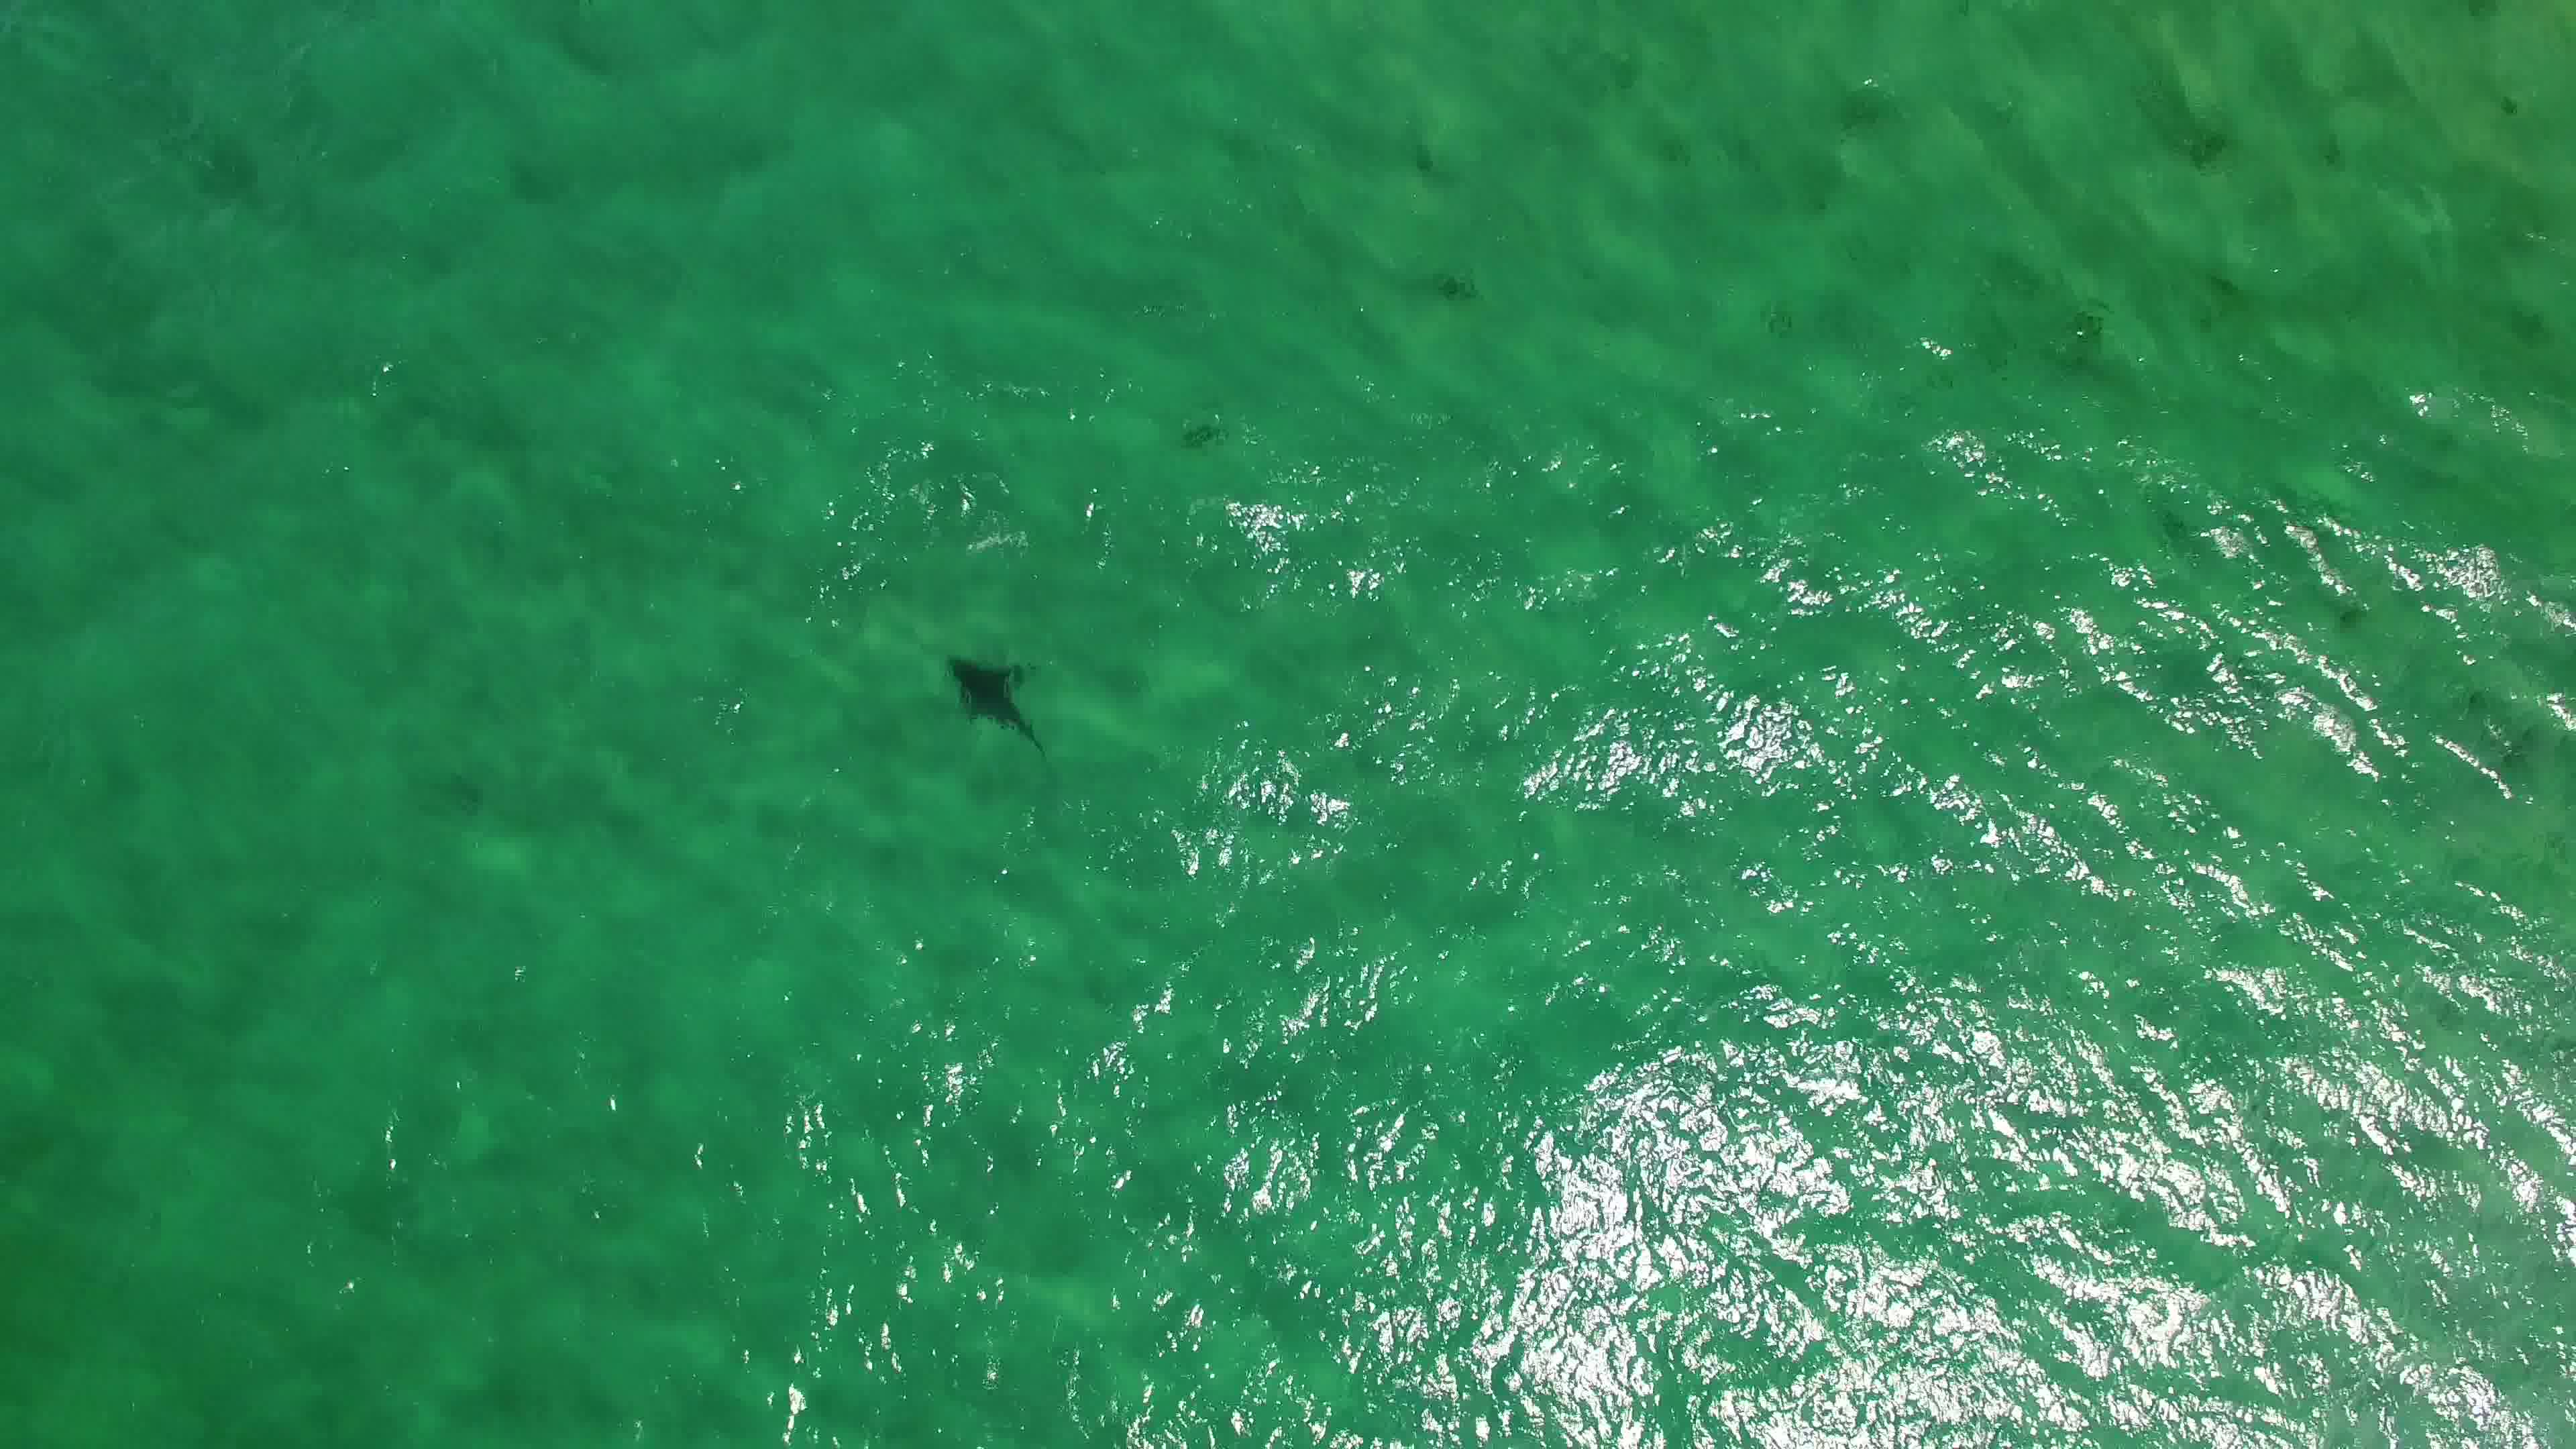shark: (939, 649, 1058, 764)
